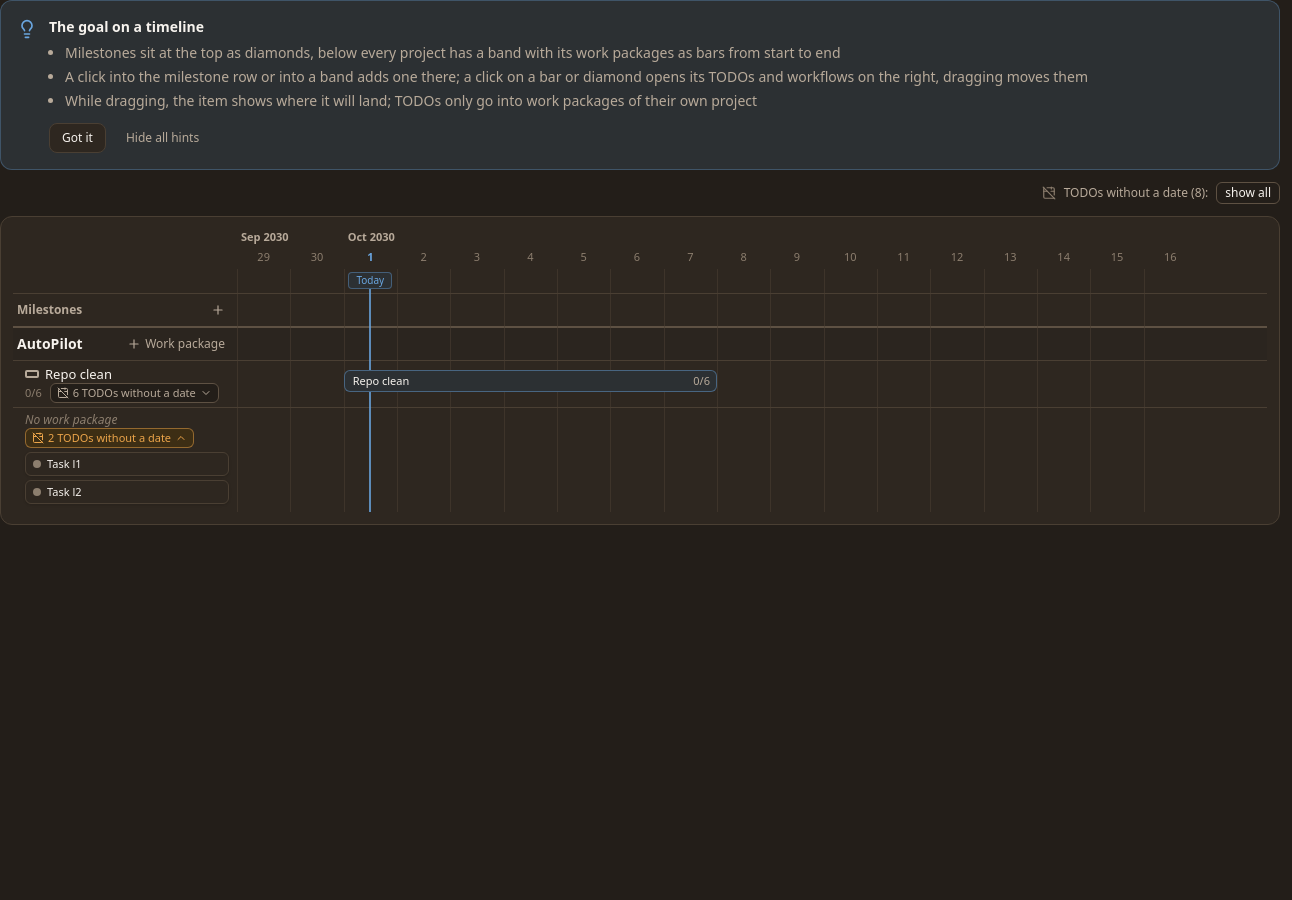
Scenario: TODOs without a date in the timeline › shows a clear counter button per row; rows with up to five stand open, bigger ones folded
Expected: the button with aria-label "Task l1 – no due date" is shown, [25,452,229,476]
Click the button "6 TODOs without a date" at coordinates (134, 393), box [50,383,219,403]
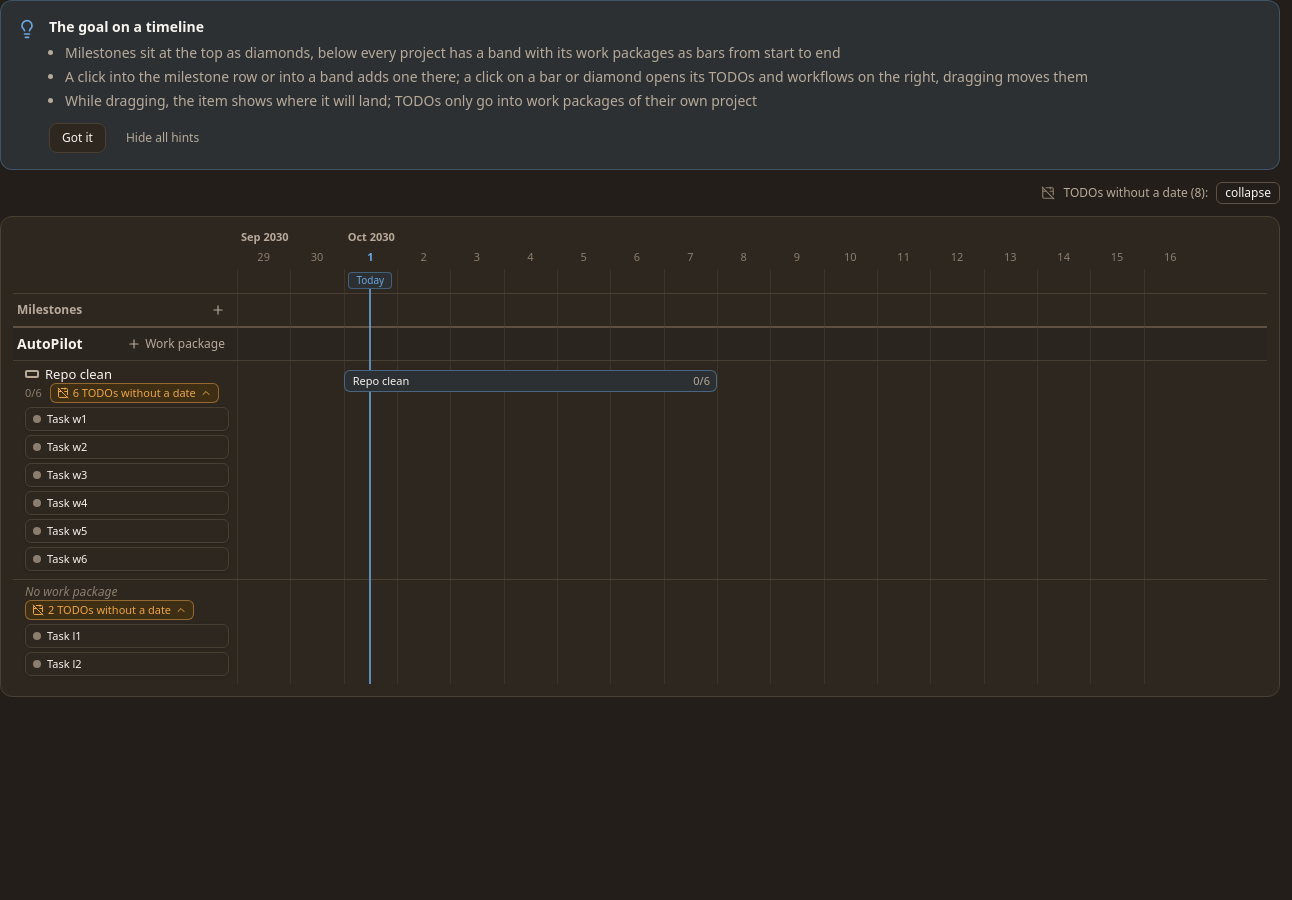
Expected: the button "6 TODOs without a date" is expanded, [50,383,219,403]
Expected: the button with aria-label "Task w6 – no due date" is shown, [25,547,229,571]
